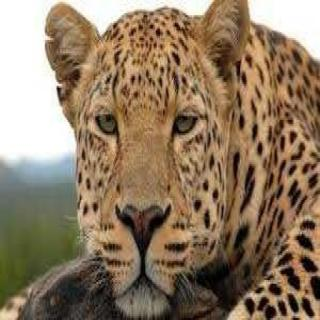Leopard: (12, 1, 320, 313)
